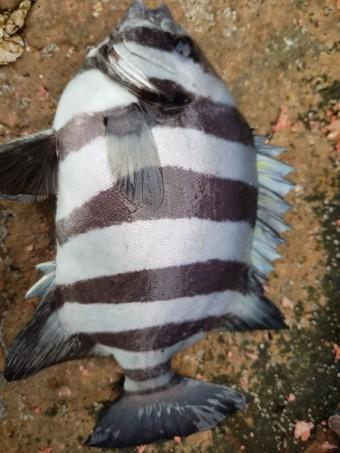fish: (0, 0, 294, 451)
